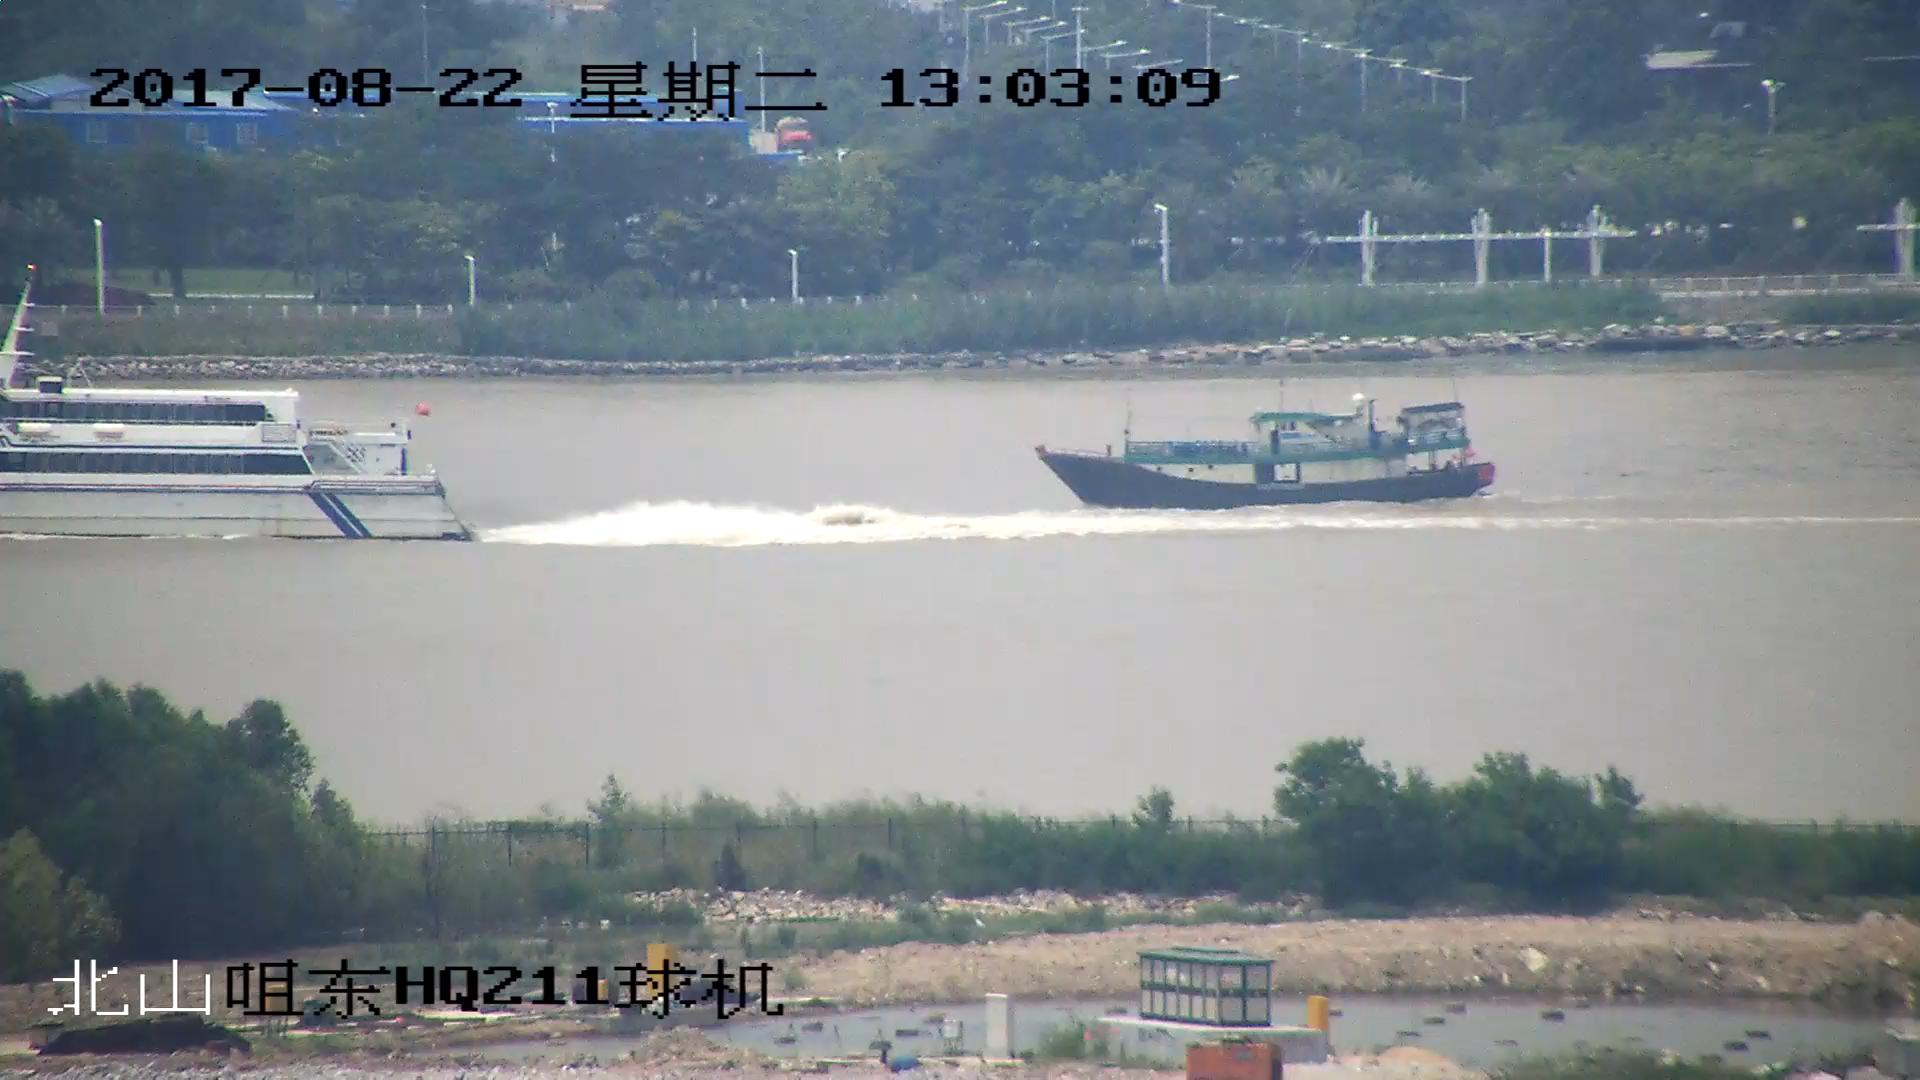fishing boat: (1040, 405, 1496, 511)
passenger ship: (1, 278, 482, 549)
